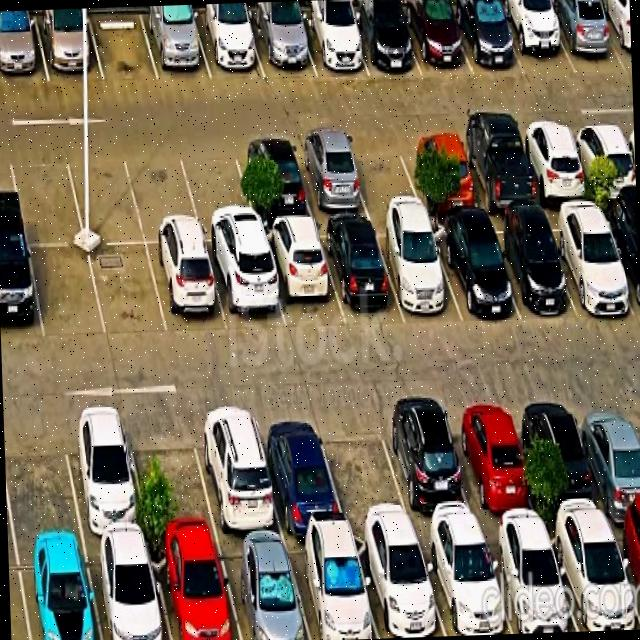empty: (315, 406, 413, 531), (125, 411, 218, 540), (3, 413, 82, 545), (177, 140, 259, 242), (64, 146, 145, 244), (125, 145, 202, 243), (7, 147, 84, 244), (88, 244, 167, 337), (29, 246, 106, 339), (343, 135, 422, 213), (88, 10, 158, 80)
occupied: (376, 401, 480, 532), (444, 398, 541, 528), (190, 405, 283, 537), (253, 408, 346, 534), (518, 396, 608, 525), (60, 412, 149, 541), (546, 521, 640, 631), (481, 528, 578, 633), (417, 530, 512, 636), (543, 208, 636, 314), (285, 535, 378, 640), (352, 535, 446, 638), (216, 539, 310, 640), (428, 219, 520, 322), (483, 217, 575, 319), (149, 540, 240, 640), (372, 221, 462, 322), (260, 223, 344, 331), (317, 221, 404, 324), (572, 395, 640, 520), (85, 541, 170, 640), (16, 544, 101, 640), (146, 243, 228, 335), (205, 242, 286, 331), (455, 129, 539, 212), (233, 139, 313, 222), (291, 137, 370, 217), (400, 132, 481, 210), (516, 125, 593, 204), (496, 0, 575, 77), (543, 0, 626, 73), (449, 0, 524, 75), (400, 0, 473, 77), (347, 5, 421, 76), (568, 123, 636, 199), (191, 10, 265, 79), (140, 10, 211, 80), (34, 12, 103, 82), (295, 10, 368, 75), (599, 207, 640, 317), (247, 11, 315, 77), (0, 242, 43, 342), (0, 13, 48, 83), (608, 518, 640, 618), (594, 0, 631, 71)
